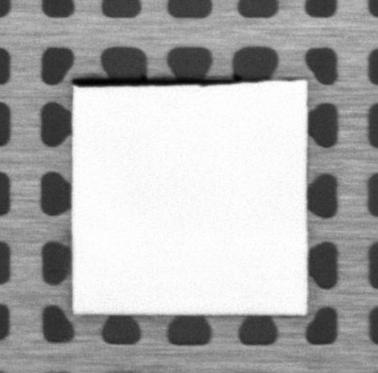DIE_BROKEN: (70, 76, 250, 87)
